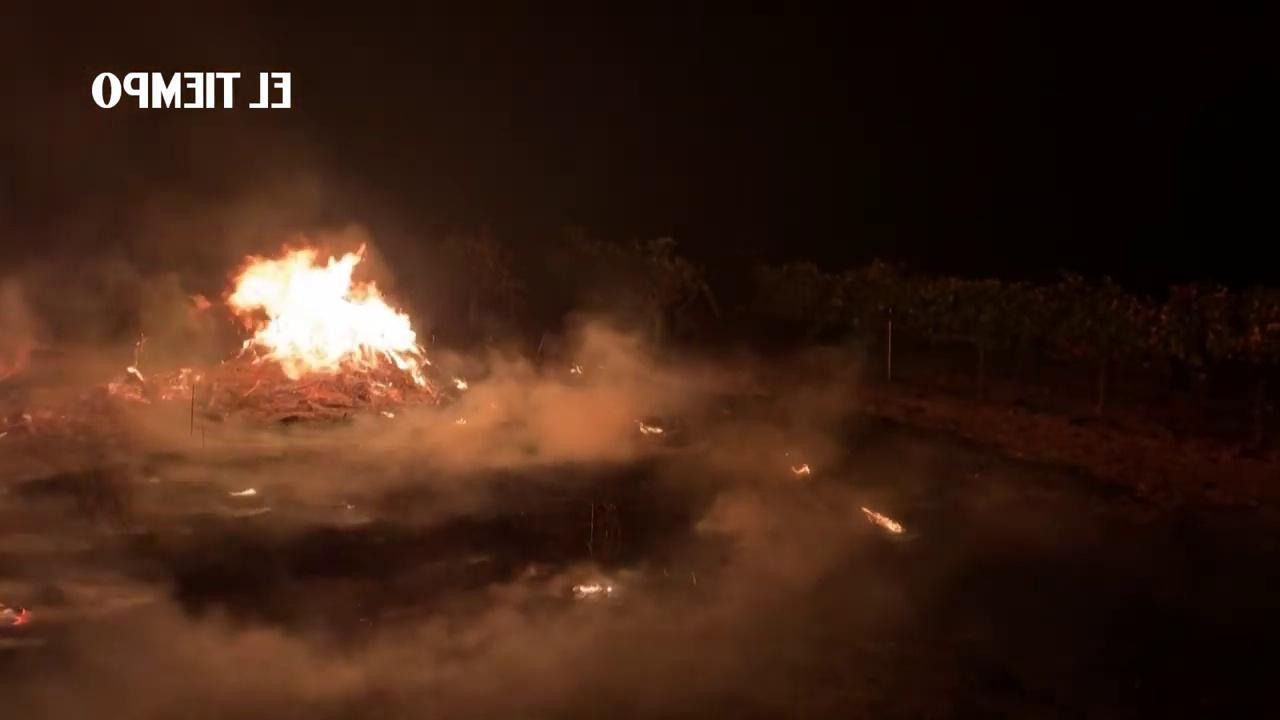Fire: (229, 229, 455, 386), (863, 506, 911, 536), (570, 579, 607, 593), (638, 420, 669, 436), (456, 373, 473, 394), (793, 459, 812, 477)
